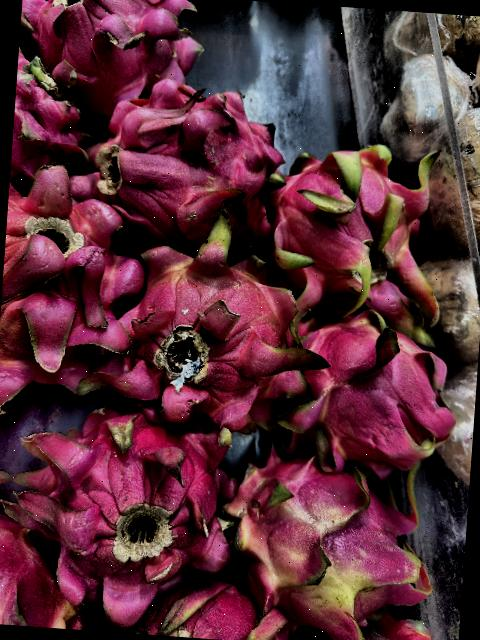buah-naga-belum-matang: (216, 428, 435, 632), (114, 231, 294, 430)
buah-naga-matang: (4, 383, 236, 599), (254, 130, 456, 318), (0, 165, 150, 389), (269, 302, 464, 470), (80, 84, 284, 244), (15, 0, 200, 96), (0, 507, 93, 629), (10, 42, 90, 178), (137, 570, 287, 640)
